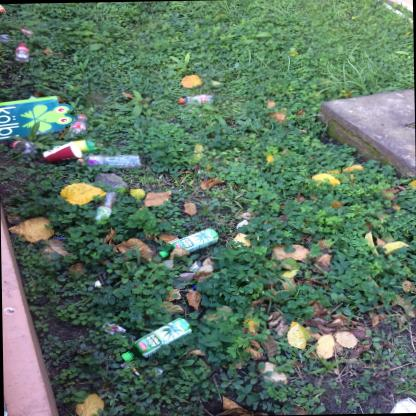Paper: (43, 141, 81, 163), (20, 27, 32, 35), (132, 367, 140, 376), (94, 280, 101, 287)
Plastic: (120, 317, 193, 361), (158, 228, 219, 258), (77, 154, 140, 168), (94, 190, 117, 220), (68, 114, 89, 133), (9, 140, 37, 154), (102, 322, 125, 337), (72, 138, 98, 151), (179, 94, 212, 104), (15, 43, 29, 62), (187, 260, 200, 271), (0, 34, 9, 42), (179, 98, 182, 103), (77, 158, 81, 161)
Waste: (0, 95, 74, 141), (0, 5, 5, 15)
